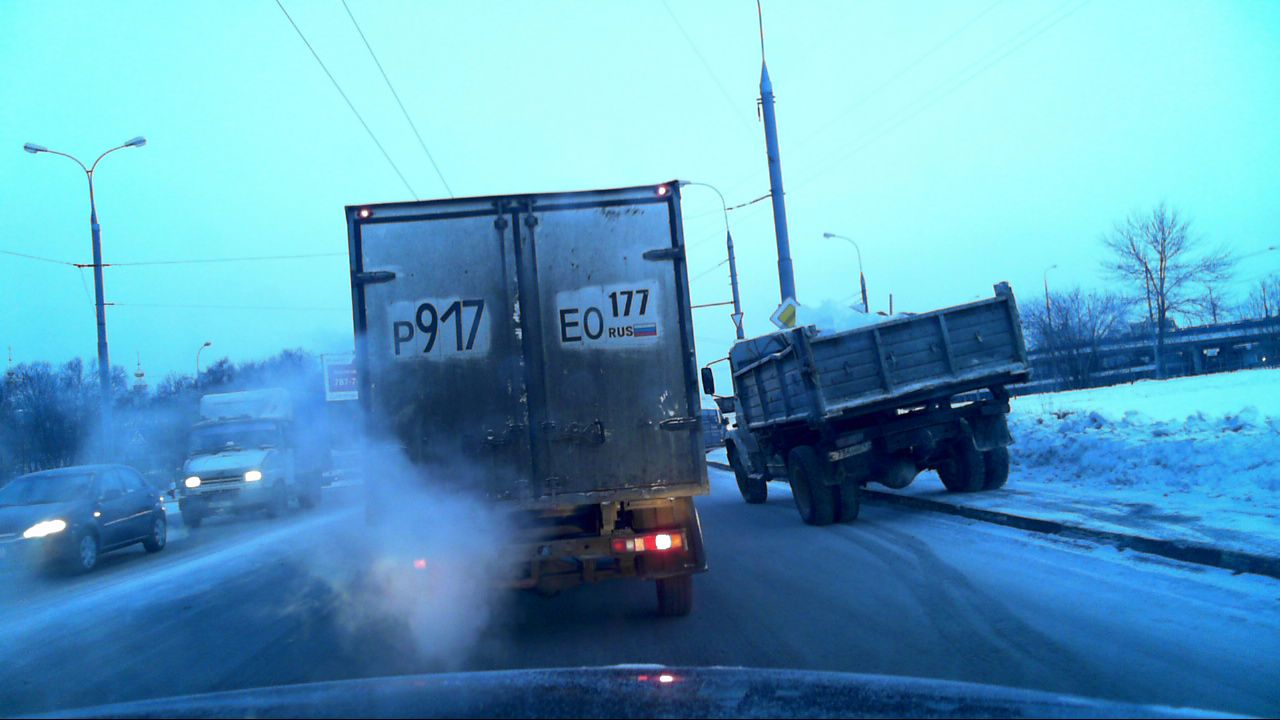main road: (768, 296, 807, 332)
